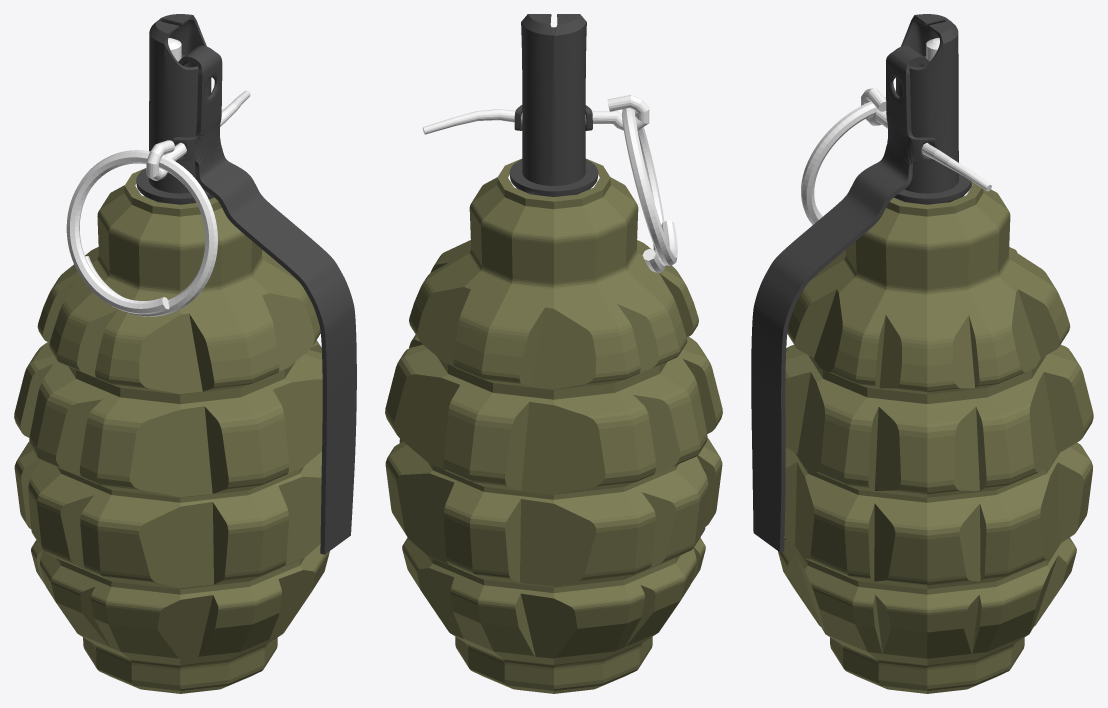
Rendered from Hand grenade.glb.
3 views of the same model, side by side, from view 1: azimuth 30°, elevation 25°; view 2: azimuth 150°, elevation 25°; view 3: azimuth 270°, elevation 25° (orthographic).
Parts seen in each view (by area): view 1: body, 4, 1, 3, 2; view 2: body, 1, 3, 2; view 3: body, 4, 1, 3, 2.
Part boxes in pixels (x1=…): body: x1=14, y1=168, x2=329, y2=693; 4: x1=171, y1=45, x2=356, y2=554; 1: x1=136, y1=14, x2=214, y2=204; 3: x1=66, y1=150, x2=217, y2=316; 2: x1=146, y1=90, x2=250, y2=180; body: x1=385, y1=158, x2=722, y2=693; 1: x1=509, y1=14, x2=598, y2=196; 3: x1=622, y1=108, x2=677, y2=272; 2: x1=422, y1=95, x2=649, y2=134; body: x1=778, y1=181, x2=1093, y2=693; 4: x1=751, y1=45, x2=938, y2=551; 1: x1=894, y1=14, x2=972, y2=204; 3: x1=801, y1=97, x2=885, y2=224; 2: x1=861, y1=88, x2=991, y2=191.
Size of the model in its own units: 109 by 230 by 112.
